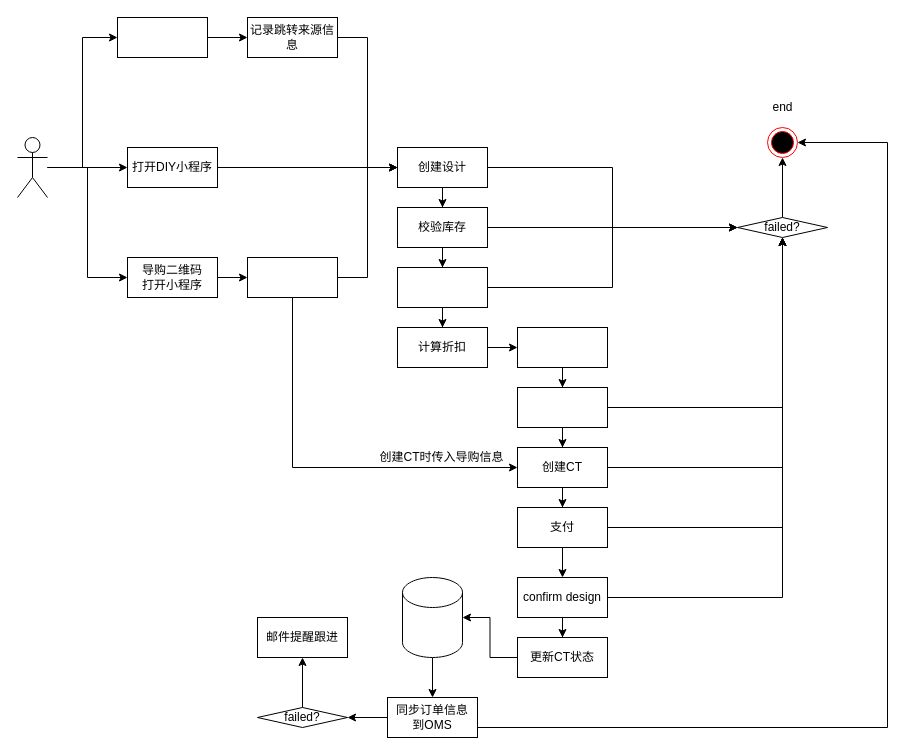
Image size: 913x755. Some labels were removed from this diagram. The box of each missing label's shape, as (x1, y1, x2, y2) in pixels:
MQ: (402, 576, 462, 658)
pre-confirm design: (516, 386, 608, 428)
从其他渠道 跳转DIY小程序: (116, 16, 208, 58)
提交订单: (516, 326, 608, 368)
计算工期: (396, 266, 488, 308)
记录导购与顾客的关联信息: (246, 256, 338, 298)
顾客: (16, 136, 48, 198)
